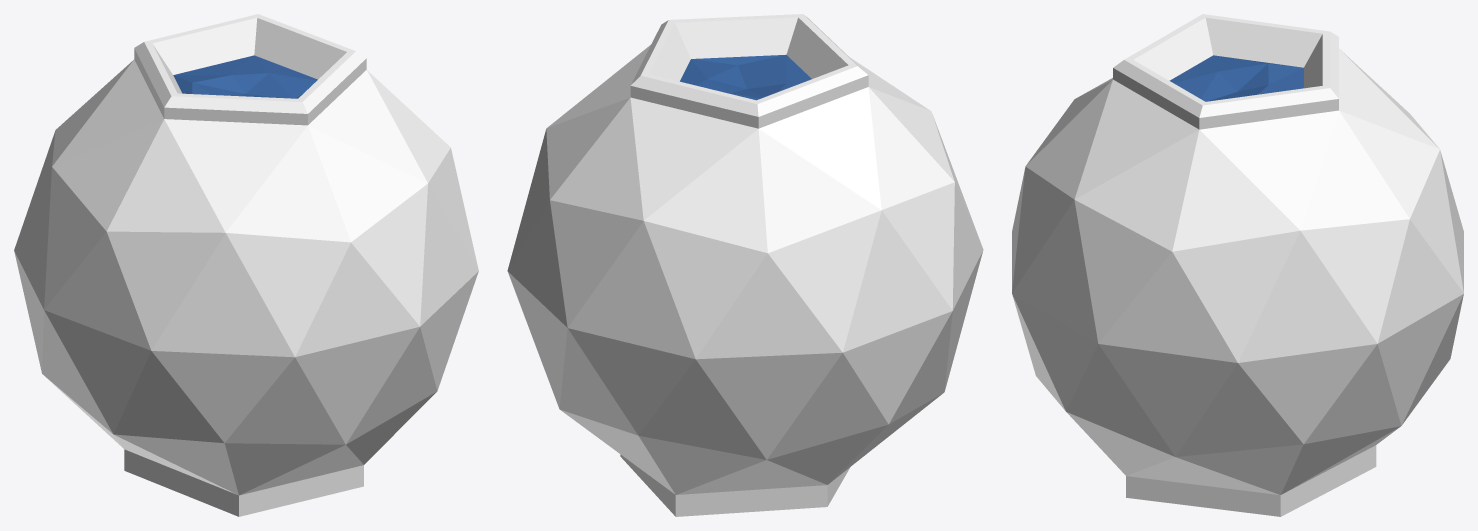
The model's file is Resources__items__creatures__Bowlfish.glb.
3 renders of one model, left to right at view 1: azimuth 30°, elevation 25°; view 2: azimuth 150°, elevation 25°; view 3: azimuth 270°, elevation 25°, orthographic. The views are drawn at different scales.
Visible parts, largest first — view 1: Bowl; view 2: Bowl; view 3: Bowl.
Part boxes in pixels (x1,y1,x2,y2): Bowl: [14, 14, 478, 516]; Bowl: [507, 14, 983, 516]; Bowl: [1012, 14, 1463, 516].
Size of the model in its own units: 0.8668 by 0.8192 by 0.8244.
2 materials, 2 textured.
